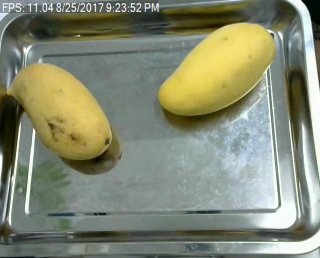Mango: (155, 19, 276, 118), (6, 60, 116, 163)
